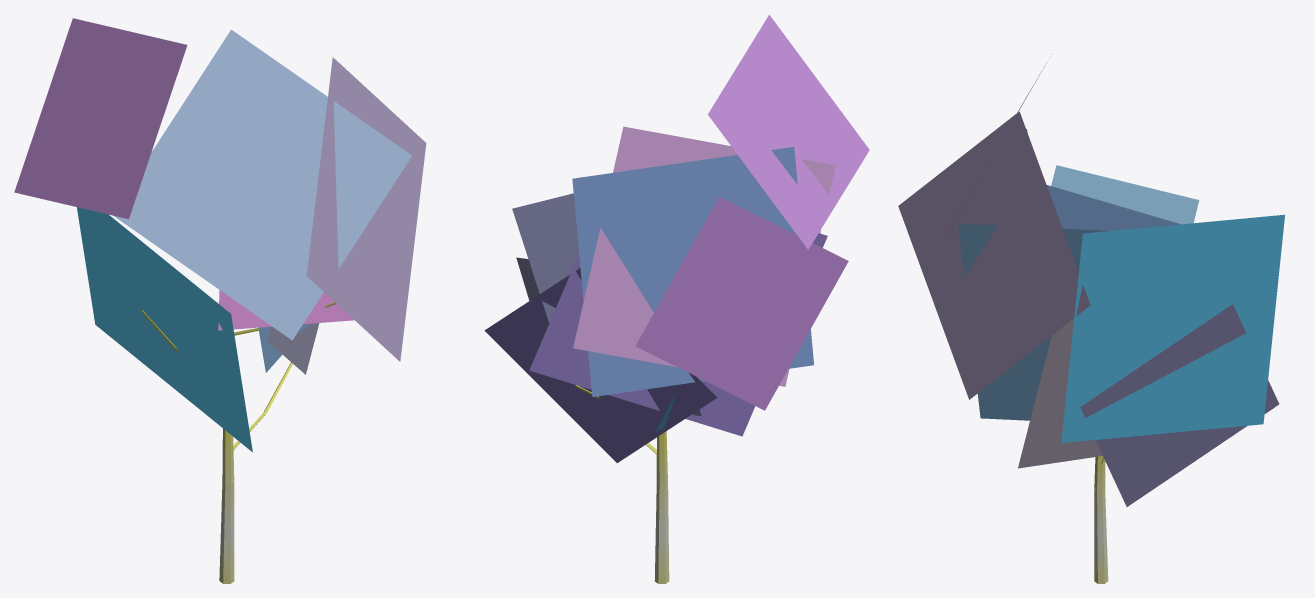
Rendered from tree_lime_3.glb.
The picture shows the model from 3 angles, left to right: view 1: azimuth 30°, elevation 25°; view 2: azimuth 150°, elevation 25°; view 3: azimuth 270°, elevation 25°; orthographic projection. The views are drawn at different scales.
Parts seen in each view (by area): view 1: tree_lime_3; view 2: tree_lime_3; view 3: tree_lime_3.
Boxes of the visible parts, left/top/right/bottom form: tree_lime_3: left=14, top=18, right=426, bottom=583; tree_lime_3: left=484, top=14, right=869, bottom=583; tree_lime_3: left=898, top=58, right=1284, bottom=583.
Bounding box in the file's own units: 8.53 × 12.23 × 8.36.
